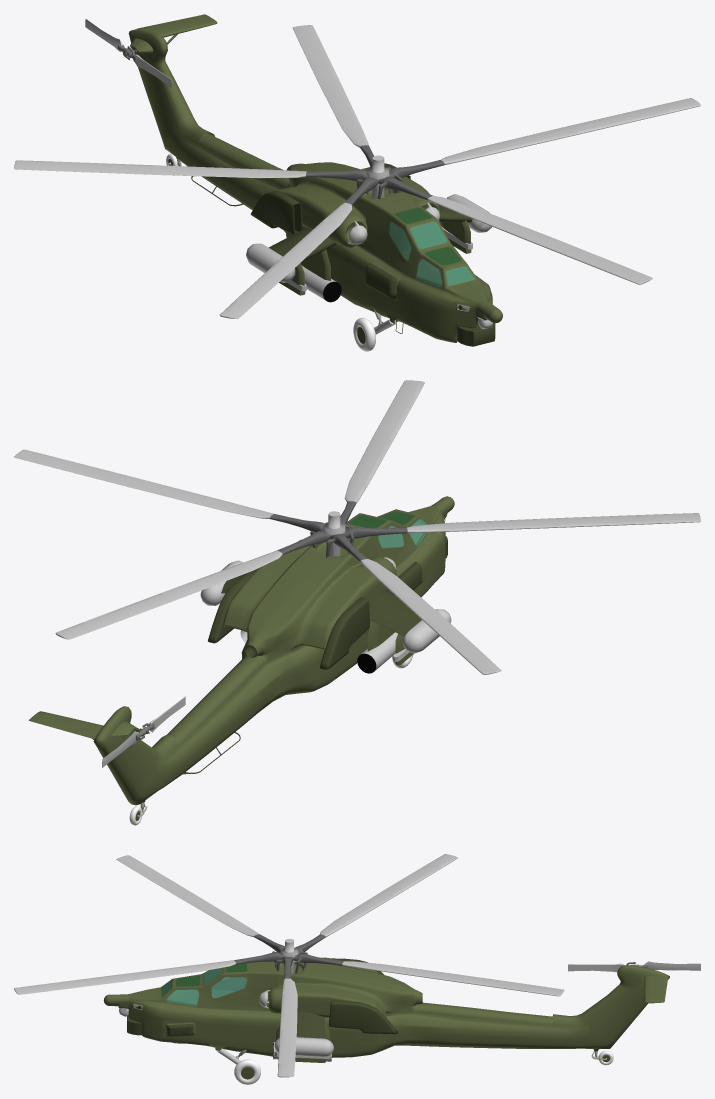
3 renders of one model, top to bottom at view 1: azimuth 30°, elevation 25°; view 2: azimuth 150°, elevation 25°; view 3: azimuth 270°, elevation 25°, orthographic. The views are drawn at different scales.
Visible parts, largest first — view 1: Body, polySurface1866, polySurface1868, polySurface1809, polySurface1800, polySurface1811, polySurface1827; view 2: Body, polySurface1800, polySurface1811, polySurface1809, polySurface1866, polySurface1868; view 3: Body, polySurface1811, polySurface1868, polySurface1866, polySurface1800, polySurface1809, polySurface1828, polySurface1869, polySurface1870.
Part boxes in pixels (<box>): Body: <box>123,14,502,346</box>; polySurface1866: <box>14,160,368,194</box>; polySurface1868: <box>377,176,652,284</box>; polySurface1809: <box>389,98,700,192</box>; polySurface1800: <box>219,176,378,318</box>; polySurface1811: <box>292,25,391,193</box>; polySurface1827: <box>353,317,375,351</box>; Body: <box>29,496,454,817</box>; polySurface1800: <box>343,513,700,553</box>; polySurface1811: <box>55,531,329,639</box>; polySurface1809: <box>14,449,328,532</box>; polySurface1866: <box>326,533,501,674</box>; polySurface1868: <box>340,380,424,528</box>; Body: <box>103,939,669,1064</box>; polySurface1811: <box>293,953,564,996</box>; polySurface1868: <box>14,951,282,994</box>; polySurface1866: <box>295,854,457,969</box>; polySurface1800: <box>116,855,284,952</box>; polySurface1809: <box>276,956,297,1077</box>; polySurface1828: <box>234,1059,260,1084</box>; polySurface1869: <box>634,961,700,970</box>; polySurface1870: <box>568,962,635,972</box>.
Size of the model in its own units: 15.71 by 4.19 by 20.47.
